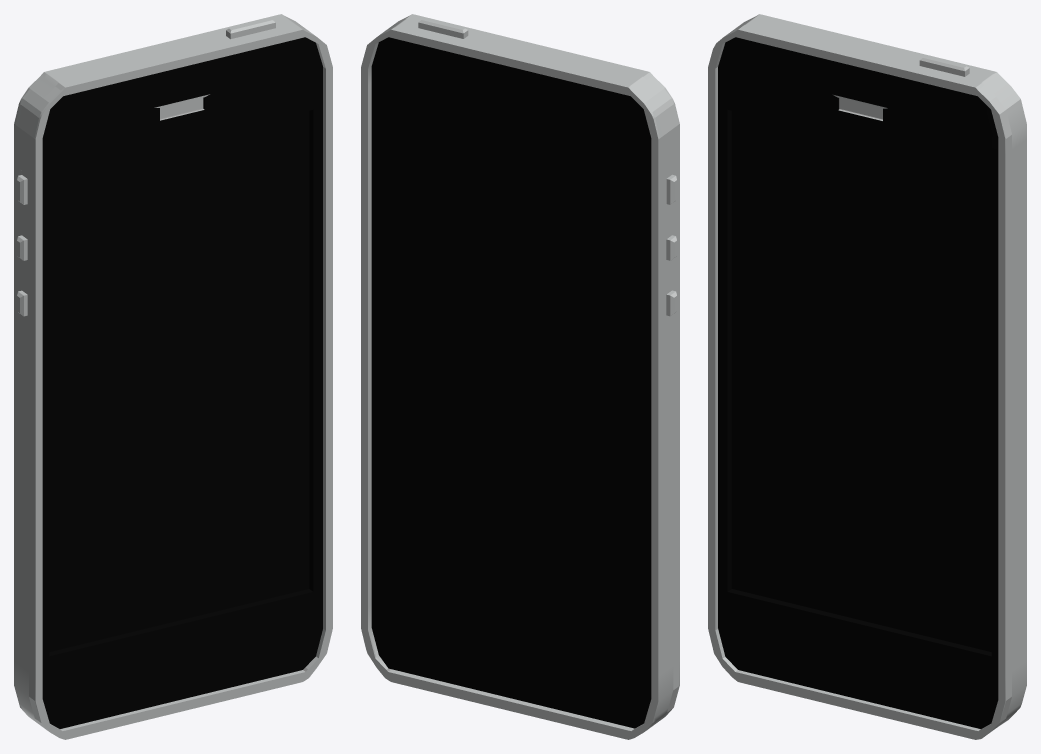
The model's file is phone_lp.fbx.
3 renders of one model, left to right at view 1: azimuth 30°, elevation 25°; view 2: azimuth 150°, elevation 25°; view 3: azimuth 330°, elevation 25°, orthographic.
Visible parts, largest first — view 1: phone_lp; view 2: phone_lp; view 3: phone_lp.
Boxes of the visible parts, x1,y1,x2,y2 form: phone_lp: (14, 14, 332, 739); phone_lp: (361, 14, 679, 739); phone_lp: (708, 14, 1026, 739).
Bounding box in the file's own units: 4.75 × 9.86 × 0.5808.
Materials: 4 (3 with a texture image).
